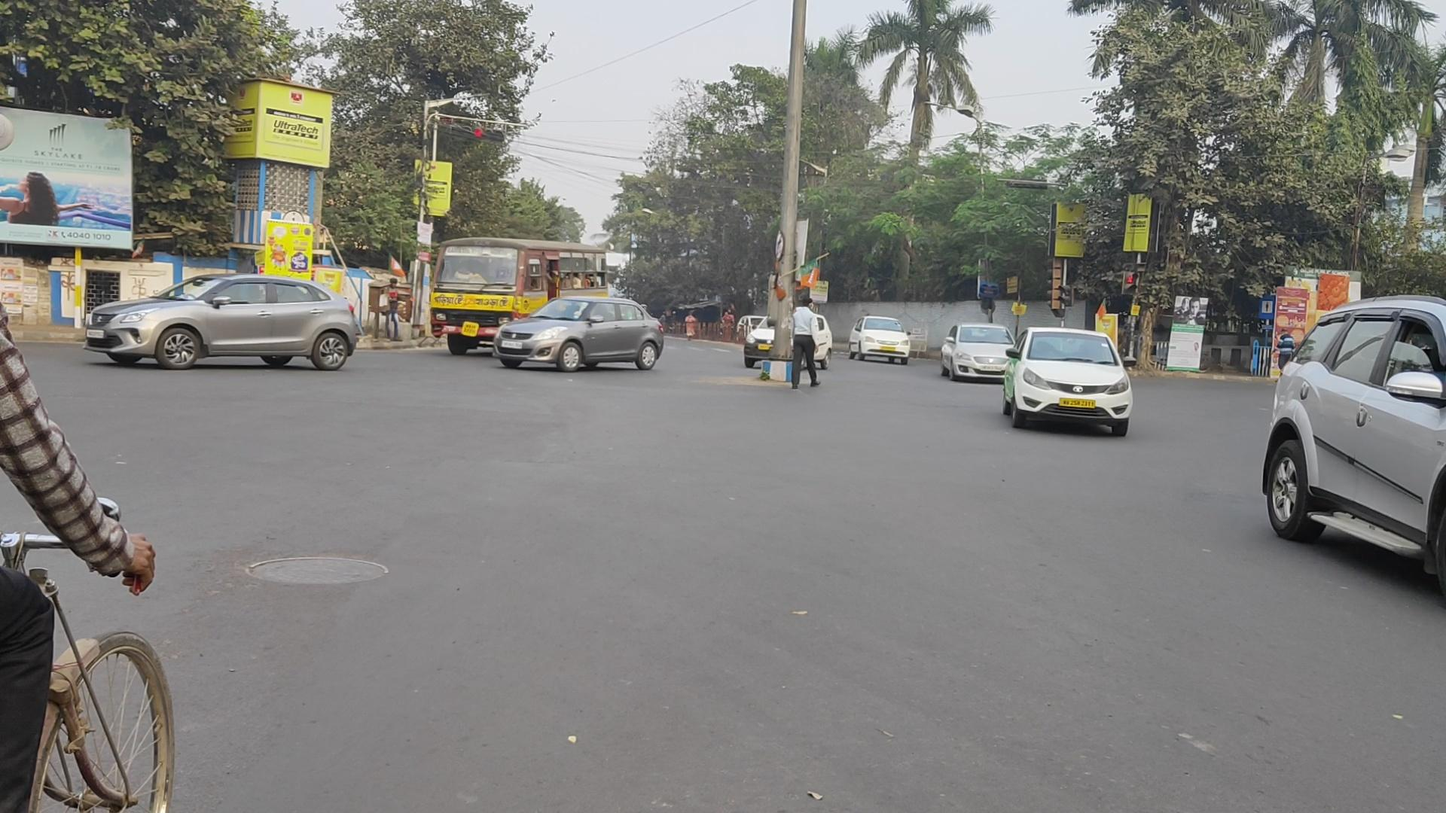Bus: (429, 236, 608, 356)
car: (1261, 294, 1446, 604), (84, 273, 360, 370), (1003, 327, 1133, 438), (492, 297, 664, 373), (744, 310, 833, 370), (941, 324, 1019, 384), (849, 316, 911, 365)
